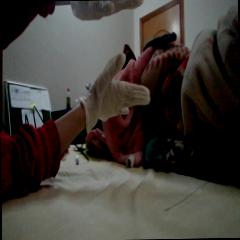gloved: (82, 52, 152, 131), (69, 0, 143, 22)
